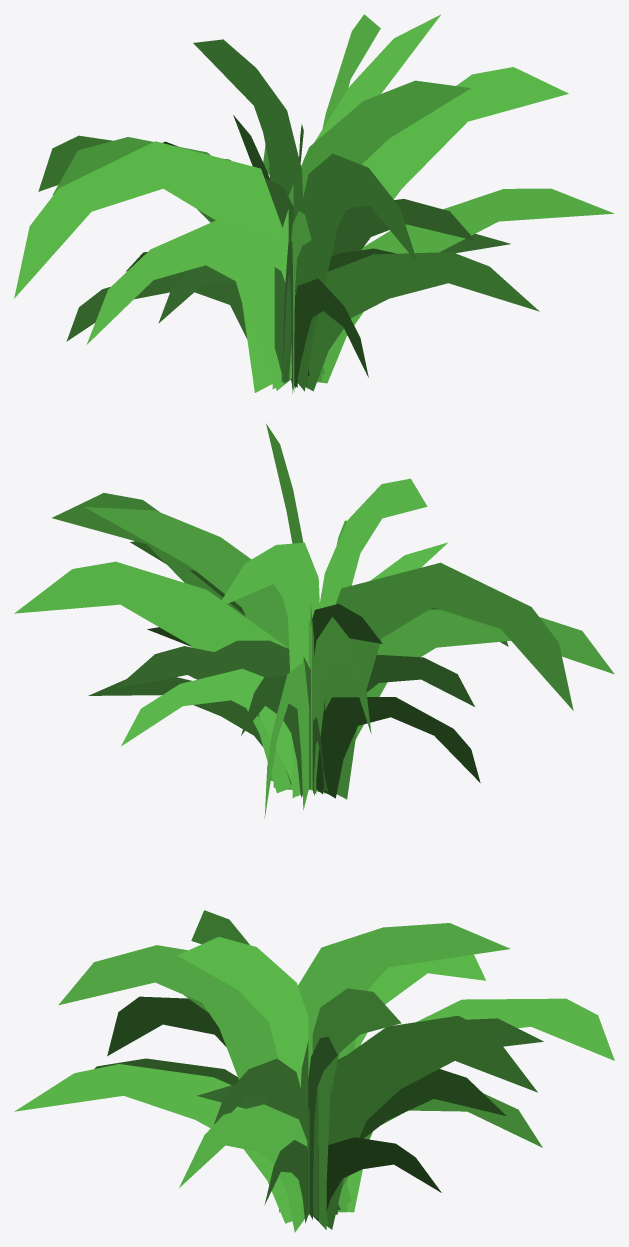
Rendered from grass.fbx.
The picture shows the model from 3 angles, top to bottom: view 1: azimuth 30°, elevation 25°; view 2: azimuth 150°, elevation 25°; view 3: azimuth 270°, elevation 25°; orthographic projection. The views are drawn at different scales.
Visible parts, largest first — view 1: Grass; view 2: Grass; view 3: Grass.
Part boxes in pixels (box(x1,y1,x2,y2)): Grass: box(14, 14, 613, 393); Grass: box(14, 423, 614, 818); Grass: box(14, 910, 614, 1232).
Bounding box in the file's own units: 255 × 140 × 237.
